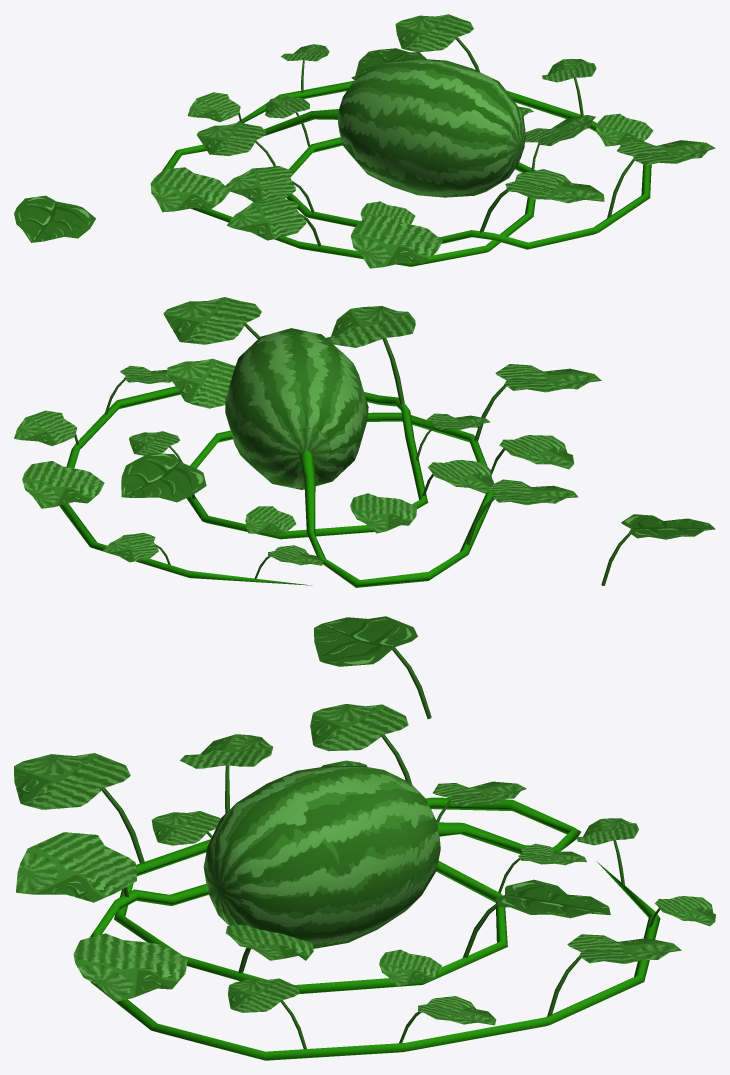
The model's file is Watermelon Stage 3.fbx.
The picture shows the model from 3 angles, top to bottom: view 1: azimuth 30°, elevation 25°; view 2: azimuth 150°, elevation 25°; view 3: azimuth 270°, elevation 25°; orthographic projection. The views are drawn at different scales.
Parts seen in each view (by area): view 1: Watermelon_Full_Grown, Watermelon_Vine_Full_Grown, polySurface86, Watermelon_Leaf_Main_Mesh, polySurface89, polySurface88, polySurface101, polySurface90, polySurface98, polySurface96, polySurface95, polySurface99 (+7 smaller); view 2: Watermelon_Full_Grown, Watermelon_Vine_Full_Grown, polySurface98, polySurface93, polySurface90, polySurface101, polySurface91, polySurface86, polySurface95, Watermelon_Leaf_Main_Mesh, polySurface88, polySurface89 (+8 smaller); view 3: Watermelon_Full_Grown, Watermelon_Vine_Full_Grown, polySurface90, polySurface86, polySurface98, Watermelon_Leaf_Main_Mesh, polySurface89, polySurface93, polySurface101, polySurface88, polySurface99, polySurface91 (+7 smaller).
Part boxes in pixels (left/top/right/bottom): Watermelon_Full_Grown: left=338, top=59, right=525, bottom=197; Watermelon_Vine_Full_Grown: left=162, top=80, right=651, bottom=266; polySurface86: left=351, top=215, right=442, bottom=268; Watermelon_Leaf_Main_Mesh: left=14, top=195, right=95, bottom=242; polySurface89: left=150, top=167, right=229, bottom=212; polySurface88: left=227, top=197, right=320, bottom=246; polySurface101: left=395, top=14, right=479, bottom=71; polySurface90: left=480, top=169, right=604, bottom=233; polySurface98: left=607, top=140, right=715, bottom=218; polySurface96: left=225, top=166, right=314, bottom=212; polySurface95: left=196, top=122, right=275, bottom=166; polySurface99: left=596, top=113, right=653, bottom=146; Watermelon_Full_Grown: left=225, top=328, right=368, bottom=489; Watermelon_Vine_Full_Grown: left=59, top=386, right=494, bottom=587; polySurface98: left=163, top=297, right=261, bottom=344; polySurface93: left=121, top=453, right=206, bottom=502; polySurface90: left=326, top=306, right=415, bottom=404; polySurface101: left=22, top=461, right=104, bottom=508; polySurface91: left=166, top=358, right=235, bottom=408; polySurface86: left=474, top=364, right=601, bottom=441; polySurface95: left=350, top=493, right=417, bottom=533; Watermelon_Leaf_Main_Mesh: left=601, top=514, right=715, bottom=585; polySurface88: left=491, top=435, right=574, bottom=474; polySurface89: left=466, top=479, right=578, bottom=545; Watermelon_Full_Grown: left=203, top=766, right=440, bottom=948; Watermelon_Vine_Full_Grown: left=90, top=797, right=660, bottom=1060; polySurface90: left=16, top=832, right=136, bottom=902; polySurface86: left=14, top=753, right=144, bottom=864; polySurface98: left=73, top=933, right=187, bottom=1001; Watermelon_Leaf_Main_Mesh: left=314, top=616, right=431, bottom=718; polySurface89: left=310, top=704, right=411, bottom=783; polySurface93: left=462, top=879, right=610, bottom=957; polySurface101: left=547, top=934, right=681, bottom=1016; polySurface88: left=180, top=734, right=272, bottom=813; polySurface99: left=228, top=978, right=306, bottom=1049; polySurface91: left=225, top=924, right=313, bottom=980.
Size of the model in its own units: 1.44 by 0.2822 by 1.1.
Materials: 2 (1 with a texture image).
